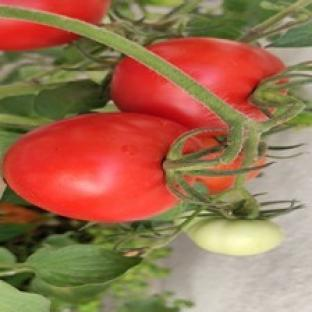Tomato: (3, 113, 186, 222), (147, 38, 284, 121), (187, 218, 284, 256), (0, 202, 41, 224), (197, 175, 238, 194)
